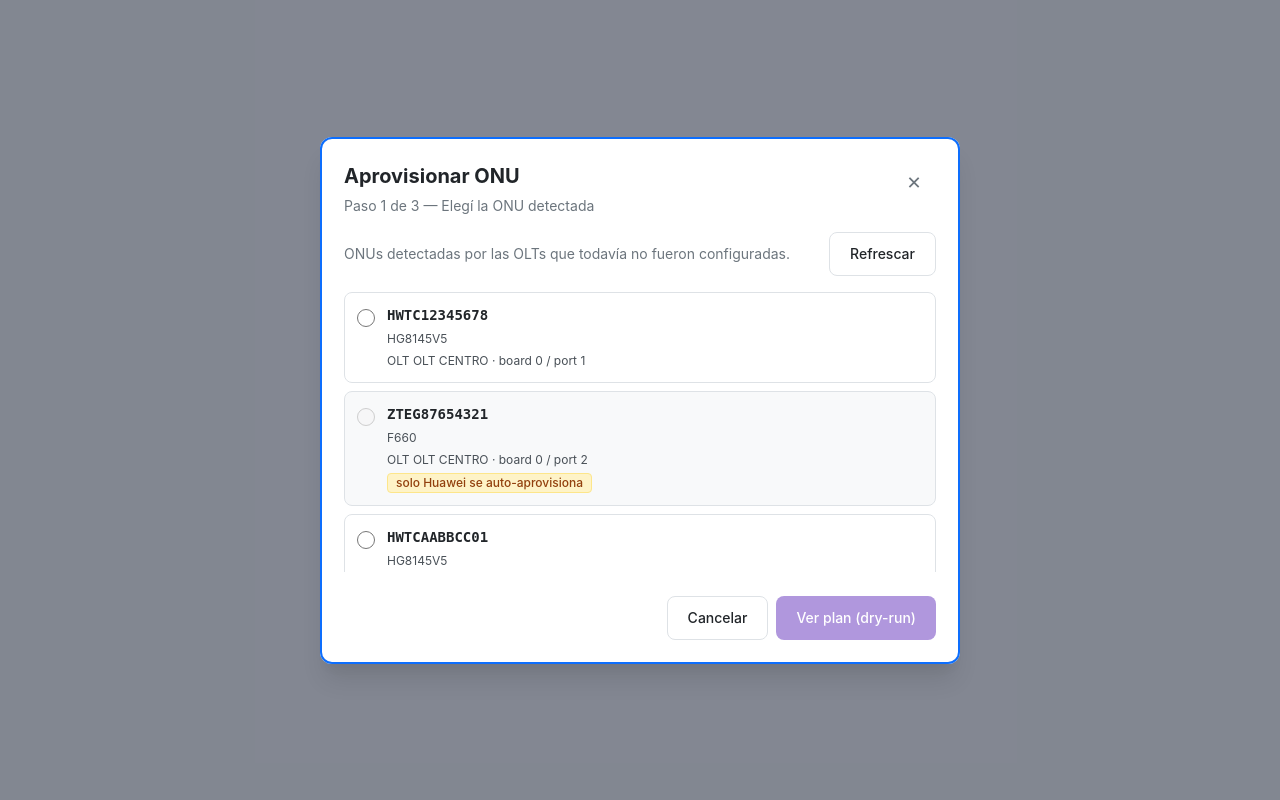
Test: ProvisionOnuModal — paso 1 (picker) › vlan fuera de rango (>4094): error de validación y NO postea
The width and height of the screenshot is (1280, 800).
Click the radio button labelled "HWTCAABBCC01 HG8145V5 OLT CHIVILCOY · board 1 / port 3" at (366,540), box [357,530,375,548]
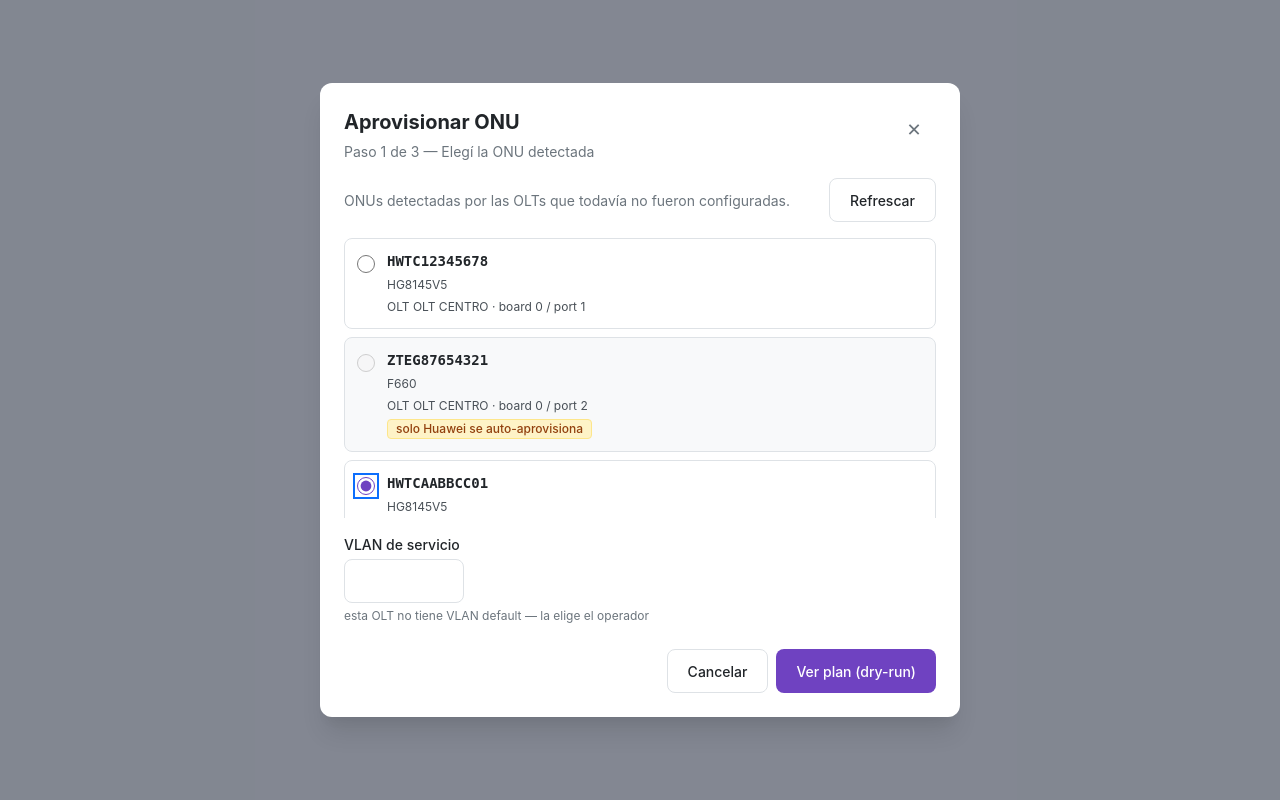
Type "5000" into the number field labelled "VLAN de servicio" at (404,581), box [344,559,464,603]
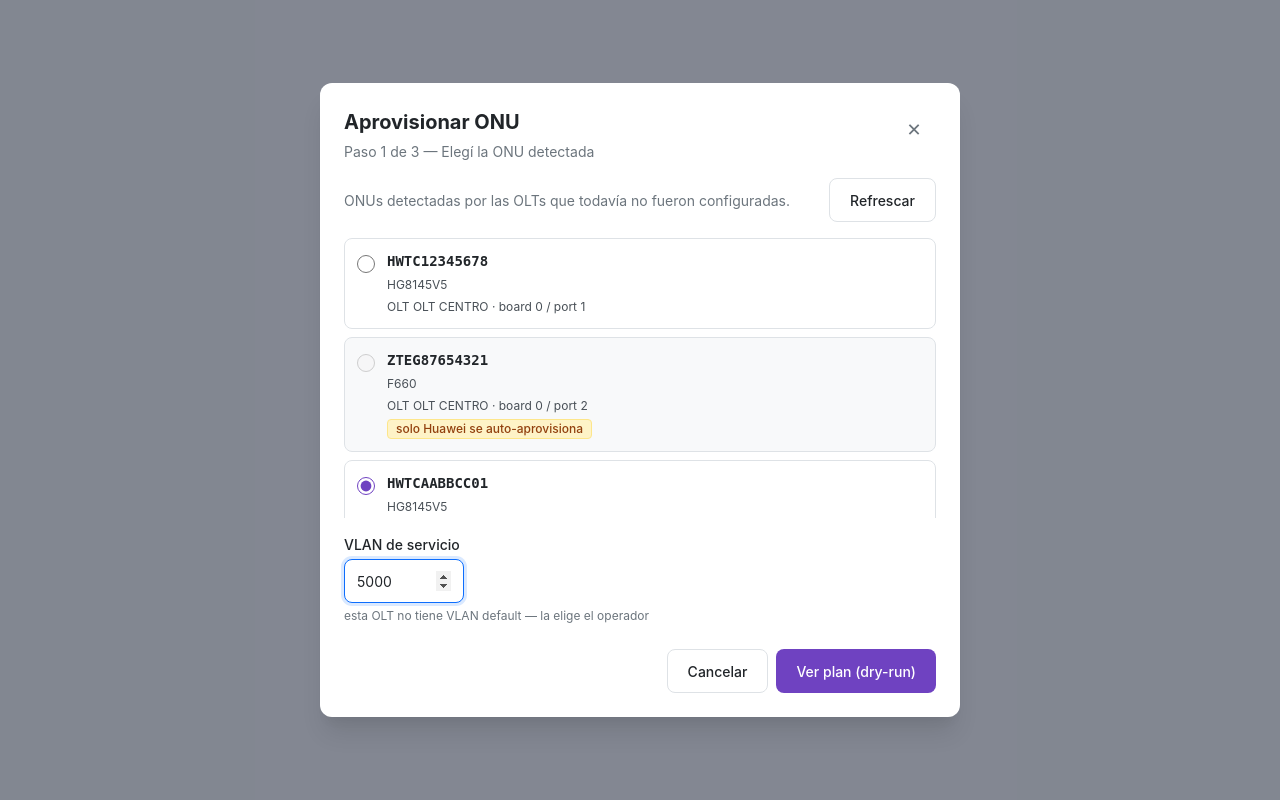
Click the button "Ver plan (dry-run)" at (856,671), box [776,649,936,693]
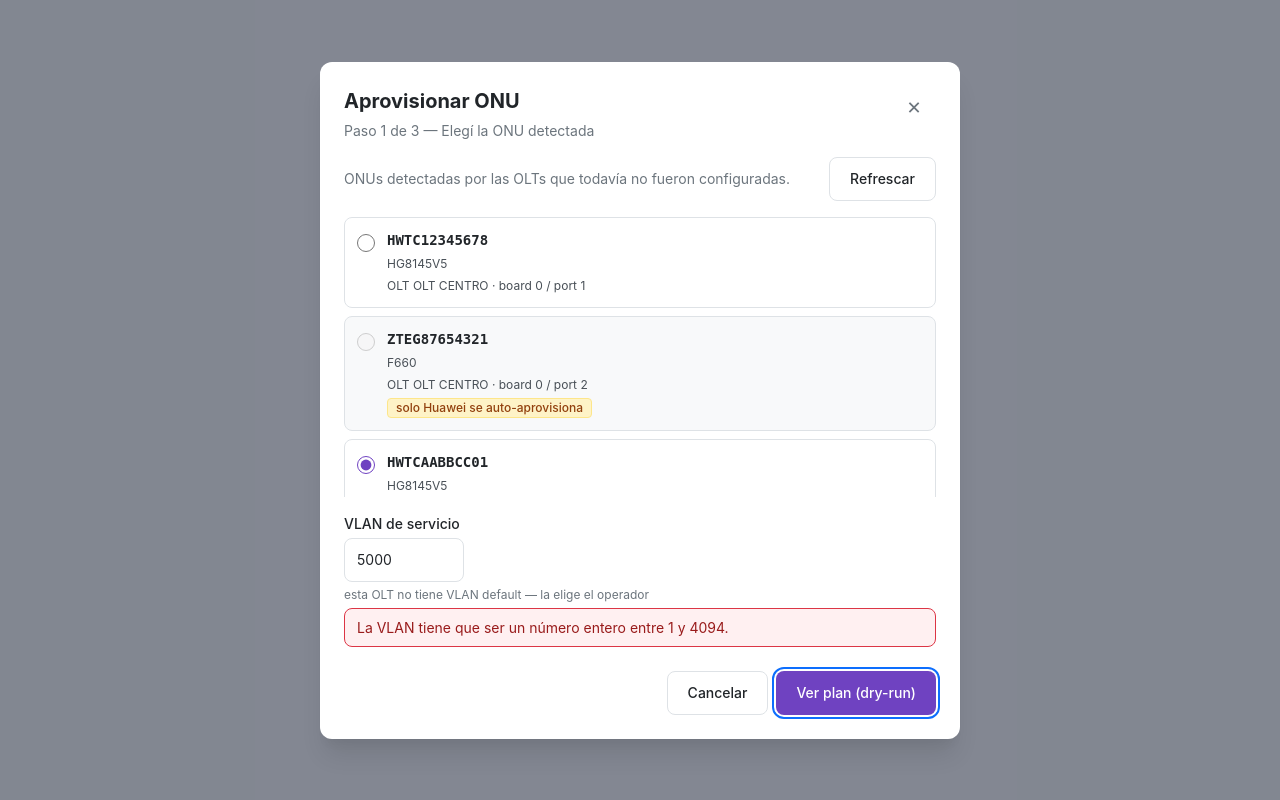
Expected: the message reads "La VLAN tiene que ser un número entero entre 1 y 4094.", [357,618,729,636]
